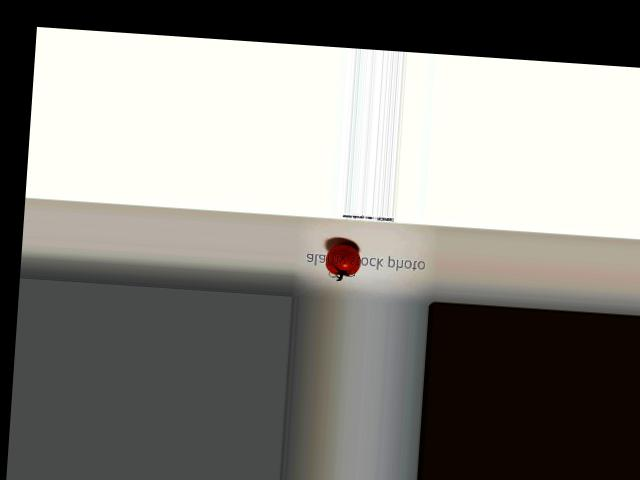tomato: (325, 242, 362, 276)
